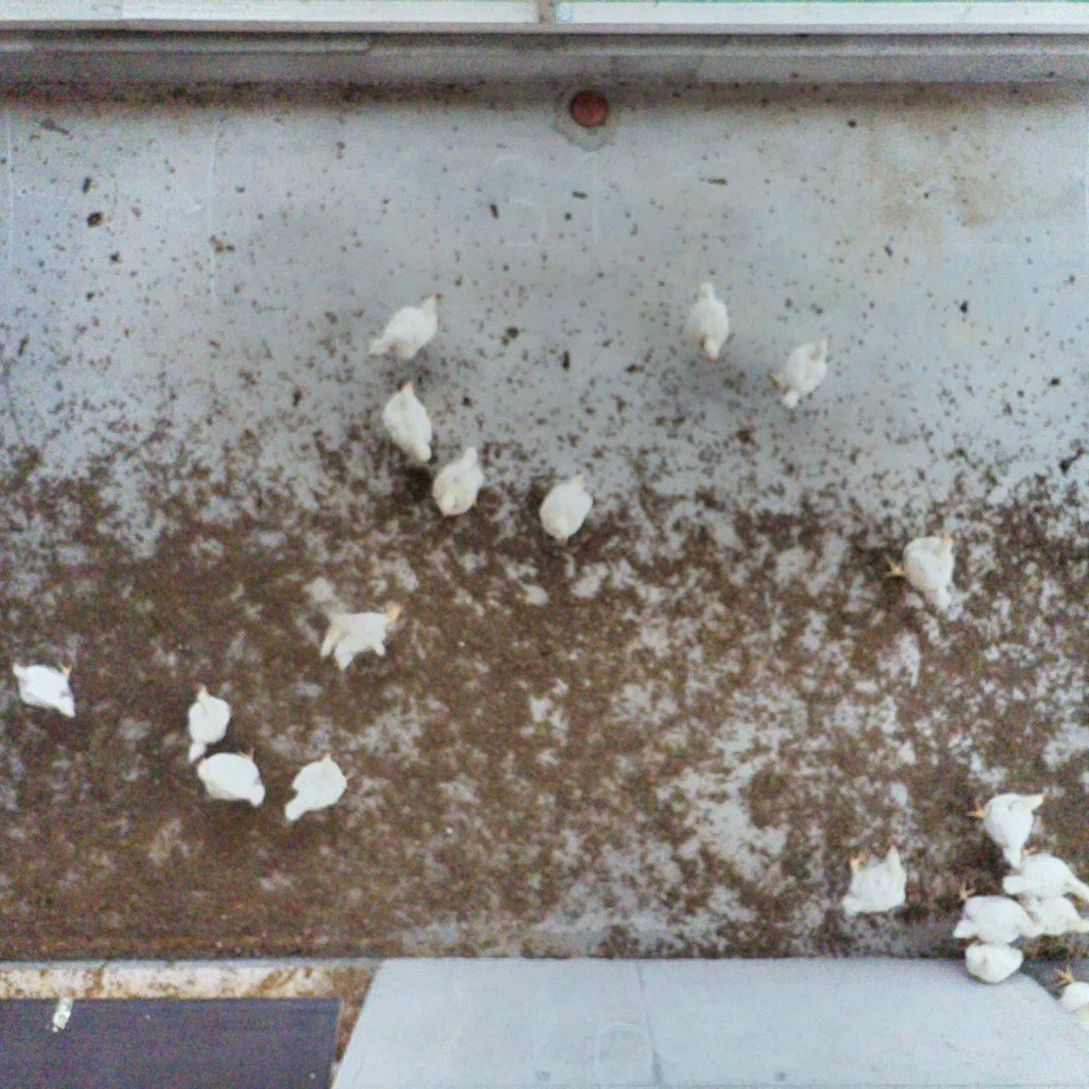chicken: (876, 520, 965, 617), (964, 780, 1051, 870), (942, 874, 1040, 944), (836, 839, 914, 925), (363, 289, 444, 368), (316, 599, 403, 671), (1000, 842, 1089, 907), (281, 745, 352, 825), (4, 654, 84, 725), (764, 331, 835, 411), (381, 375, 439, 472), (533, 466, 597, 546), (194, 743, 270, 810), (182, 678, 236, 770), (428, 442, 488, 521), (678, 281, 732, 366), (1012, 889, 1089, 942), (961, 934, 1027, 988), (1047, 955, 1089, 1025)
